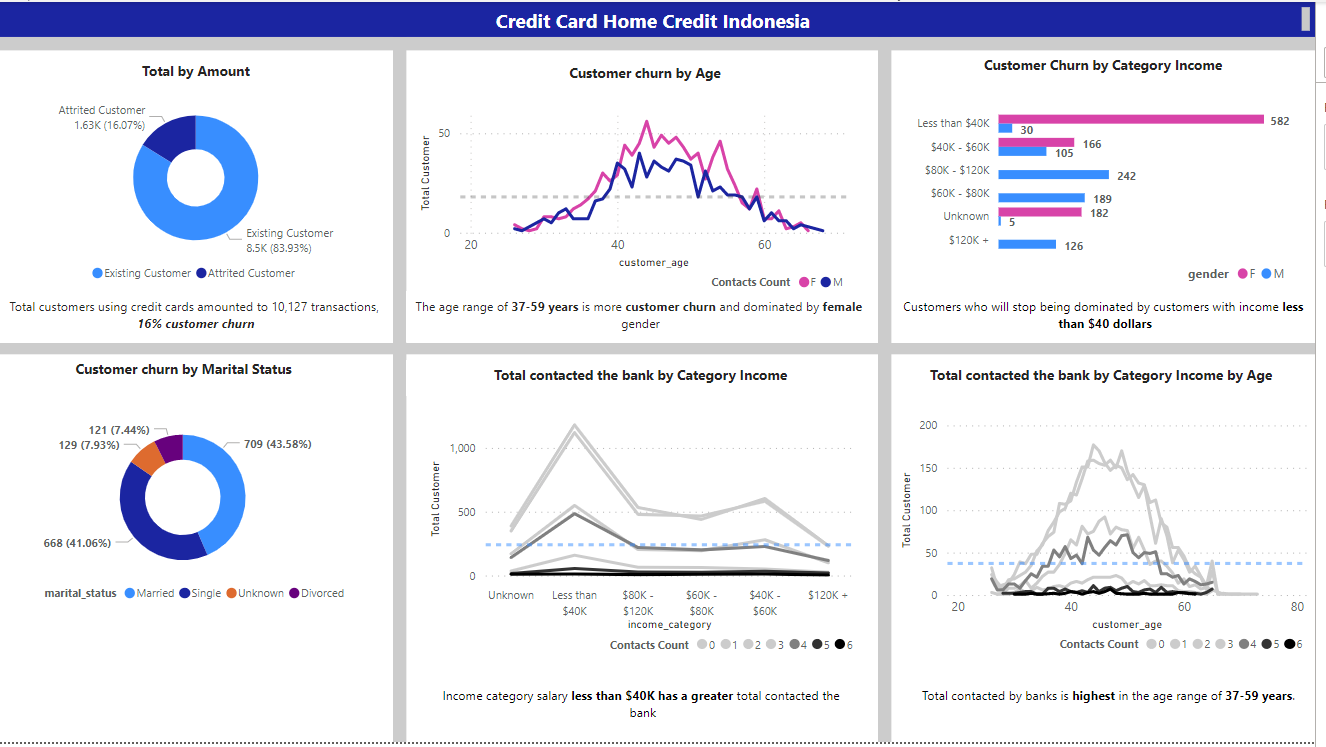

Layout of this report page (visuals, bound fields, positions):
{"tool":"powerbi","page":{"name":"Page 1","canvas":[1280,720],"ordinal":1},"visuals":[{"type":"shape","box":[855.1,0,12.9,720.5],"z":0},{"type":"textbox","box":[872.9,46.5,402.8,33.6],"z":1000},{"type":"shape","box":[0,33.6,1279.7,12.9],"z":2000},{"type":"shape","box":[383,0,12.9,720.5],"z":3000},{"type":"textbox","box":[0,52.5,383,34.6],"z":4000},{"type":"pieChart","fields":{"Category":["Database Customer.status"],"Y":["CountNonNull(Database Customer.client_num)"]},"box":[24.7,87.1,333.5,194],"z":6000},{"type":"textbox","box":[0,281.1,383,50.5],"z":7000},{"type":"lineChart","fields":{"Y":["CountNonNull(Database Customer.client_num)"],"Category":["Database Customer.customer_age"],"Series":["Database Customer.gender"]},"box":[404.8,94,425.6,196],"z":8000},{"type":"textbox","box":[404.8,54.4,447.3,34.6],"z":9000},{"type":"textbox","box":[395.9,281.1,456.2,50.5],"z":10000},{"type":"clusteredBarChart","fields":{"Y":["CountNonNull(Database Customer.client_num)"],"Category":["Database Customer.income_category"],"Series":["Database Customer.gender"]},"box":[881.8,87.1,378.1,195],"z":11000},{"type":"textbox","box":[872.9,281.1,406.8,50.5],"z":12000},{"type":"lineChart","fields":{"Y":["CountNonNull(Database Customer.client_num)"],"Series":["Database Customer.contacts_count_12_mon"],"Category":["Database Customer.customer_age"]},"box":[872.9,397.9,404.8,244.5],"z":13000},{"type":"donutChart","fields":{"Category":["Database Customer.marital_status"],"Y":["CountNonNull(Database Customer.client_num)"]},"box":[11.9,397.9,333.5,195],"z":14000},{"type":"textbox","box":[24.3,342.4,310.3,34],"z":15000},{"type":"textbox","box":[868.9,348.4,406.8,34.6],"z":16000},{"type":"textbox","box":[413.7,659.1,425.6,50.5],"z":17000},{"type":"lineChart","fields":{"Y":["CountNonNull(Database Customer.client_num)"],"Series":["Database Customer.contacts_count_12_mon"],"Category":["Database Customer.income_category"]},"box":[414.7,394.9,425.6,247.4],"z":18000},{"type":"textbox","box":[395.9,348.4,456.2,34.6],"z":19000},{"type":"textbox","box":[881.8,659.1,393.9,38.6],"z":20000},{"type":"shape","box":[0,331.5,1279.7,10.9],"z":21000},{"type":"textbox","box":[0,0,1280,34],"z":21500}]}

Visuals, with their boxes in screenshot pixels (x1, y1, x2, y2), scaled from the page's 1280x720 canvas onto the 1326x747 screenshot:
shape: 886, 0, 899, 746
textbox: 904, 48, 1322, 83
shape: 0, 35, 1325, 48
shape: 397, 0, 410, 746
textbox: 0, 54, 397, 90
pieChart - Database Customer.status x CountNonNull(Database Customer.client_num): 26, 90, 371, 292
textbox: 0, 292, 397, 344
lineChart - CountNonNull(Database Customer.client_num) x Database Customer.customer_age: 419, 98, 860, 301
textbox: 419, 56, 883, 92
textbox: 410, 292, 883, 344
clusteredBarChart - CountNonNull(Database Customer.client_num) x Database Customer.income_category: 913, 90, 1305, 293
textbox: 904, 292, 1325, 344
lineChart - CountNonNull(Database Customer.client_num) x Database Customer.contacts_count_12_mon: 904, 413, 1324, 666
donutChart - Database Customer.marital_status x CountNonNull(Database Customer.client_num): 12, 413, 358, 615
textbox: 25, 355, 347, 391
textbox: 900, 361, 1322, 397
textbox: 429, 684, 869, 736
lineChart - CountNonNull(Database Customer.client_num) x Database Customer.contacts_count_12_mon: 430, 410, 870, 666
textbox: 410, 361, 883, 397
textbox: 913, 684, 1322, 724
shape: 0, 344, 1325, 355
textbox: 0, 0, 1325, 35
